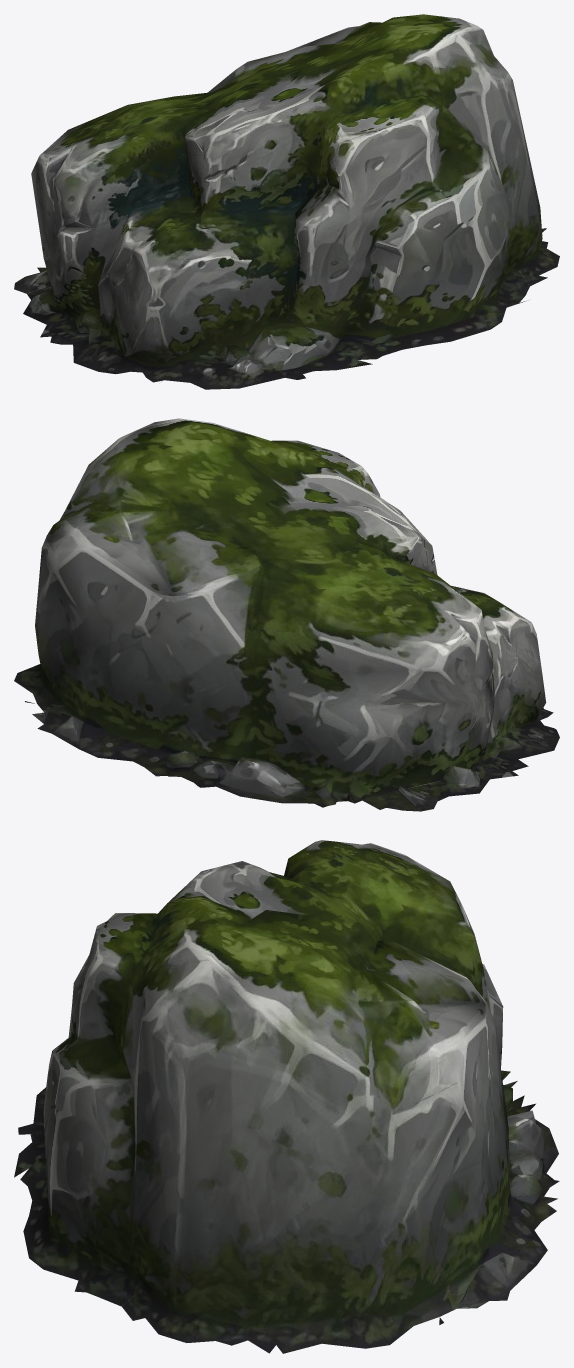
The model's file is rock.glb.
3 renders of one model, top to bottom at view 1: azimuth 30°, elevation 25°; view 2: azimuth 150°, elevation 25°; view 3: azimuth 270°, elevation 25°, orthographic. The views are drawn at different scales.
Parts seen in each view (by area): view 1: rock; view 2: rock; view 3: rock.
Boxes of the visible parts, x1,y1,x2,y2 form: rock: (14, 14, 559, 389); rock: (14, 418, 559, 811); rock: (14, 840, 559, 1353).
Bounding box in the file's own units: 0.6092 × 0.286 × 0.4345.
Materials: 1 (1 with a texture image).
